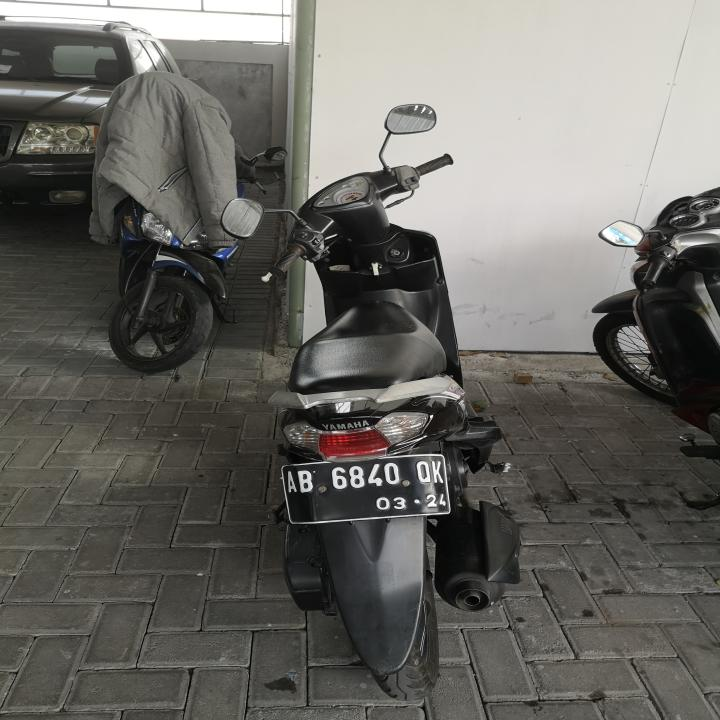plate: (279, 452, 455, 526)
